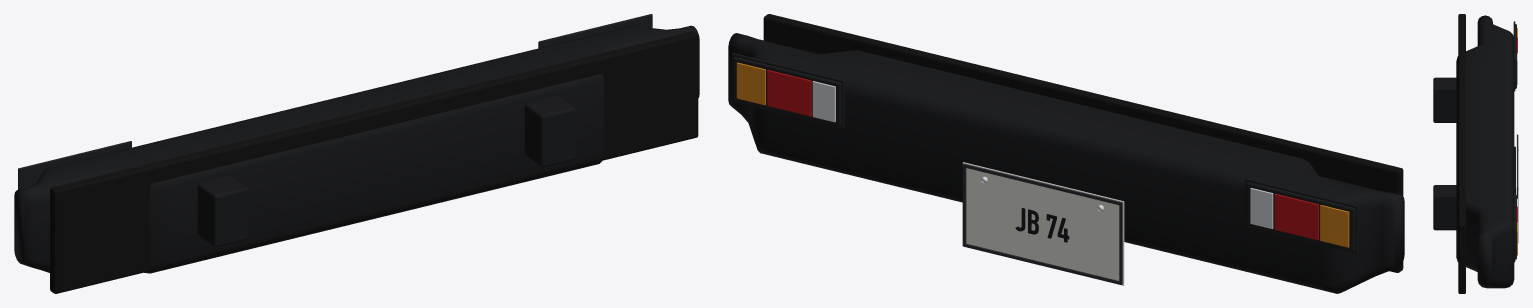
File: rearBumper_outclass_rear_abs.glb
3 views of the same model, side by side, from view 1: azimuth 30°, elevation 25°; view 2: azimuth 150°, elevation 25°; view 3: azimuth 270°, elevation 25° (orthographic). The views are drawn at different scales.
Parts seen in each view (by area): view 1: body.020, valance.035, mount-1.035, mount1.035, lampRecess-1.001, lampRecess1.001; view 2: body.020, valance.035, plate.042, lampSeg-11.006, lampSeg11.006, lampBezel-1.004, lampBezel1.004, lampSeg-10.006, lampSeg12.006, lampRecess-1.001, lampRecess1.001, lampSeg10.006 (+4 smaller); view 3: body.020, valance.035, mount-1.035, mount1.035, lampRecess1.001, lampRecess-1.001, lampBezel1.004, lampBezel-1.004, plateRim40_0, plateBracket.006.
Boxes of the visible parts, x1,y1,x2,y2 form: body.020: (14, 25, 699, 273); valance.035: (50, 31, 698, 293); mount-1.035: (197, 176, 248, 247); mount1.035: (524, 96, 575, 167); lampRecess-1.001: (18, 141, 131, 189); lampRecess1.001: (538, 14, 652, 48); body.020: (728, 33, 1404, 293); valance.035: (763, 14, 1403, 272); plate.042: (962, 162, 1124, 285); lampSeg-11.006: (1274, 194, 1318, 240); lampSeg11.006: (767, 70, 811, 116); lampBezel-1.004: (1246, 182, 1354, 251); lampBezel1.004: (733, 57, 841, 126); lampSeg-10.006: (1320, 205, 1349, 247); lampSeg12.006: (736, 62, 765, 105); lampRecess-1.001: (1245, 178, 1358, 254); lampRecess1.001: (732, 53, 844, 128); lampSeg10.006: (812, 81, 835, 122); body.020: (1456, 15, 1514, 288); valance.035: (1458, 14, 1465, 293); mount-1.035: (1433, 77, 1456, 122); mount1.035: (1433, 185, 1456, 230); lampRecess1.001: (1513, 192, 1515, 262); lampRecess-1.001: (1513, 21, 1515, 91); lampBezel1.004: (1515, 194, 1516, 259); lampBezel-1.004: (1515, 24, 1516, 88); plateRim40_0: (1517, 134, 1518, 187); plateBracket.006: (1514, 146, 1515, 194).
Size of the model in its own units: 1.36 by 0.2825 by 0.2215.
